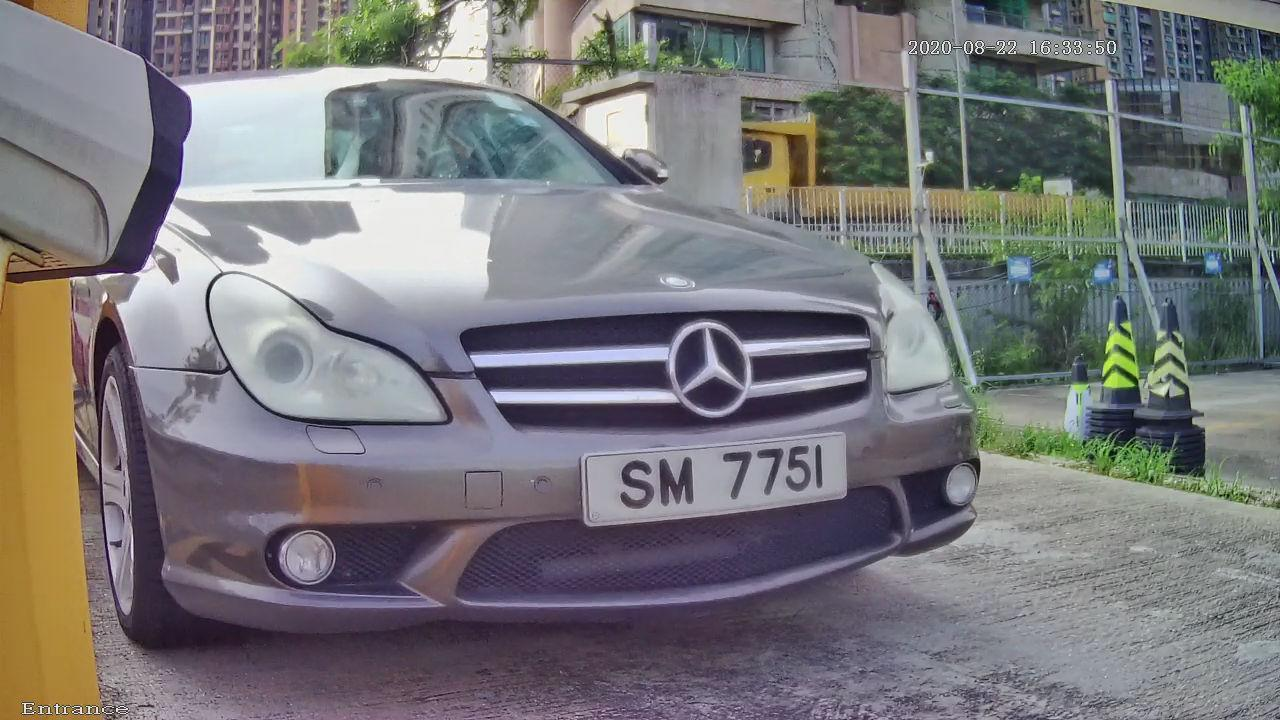Car: (1, 23, 1058, 676)
License Plate: (529, 384, 917, 555)
